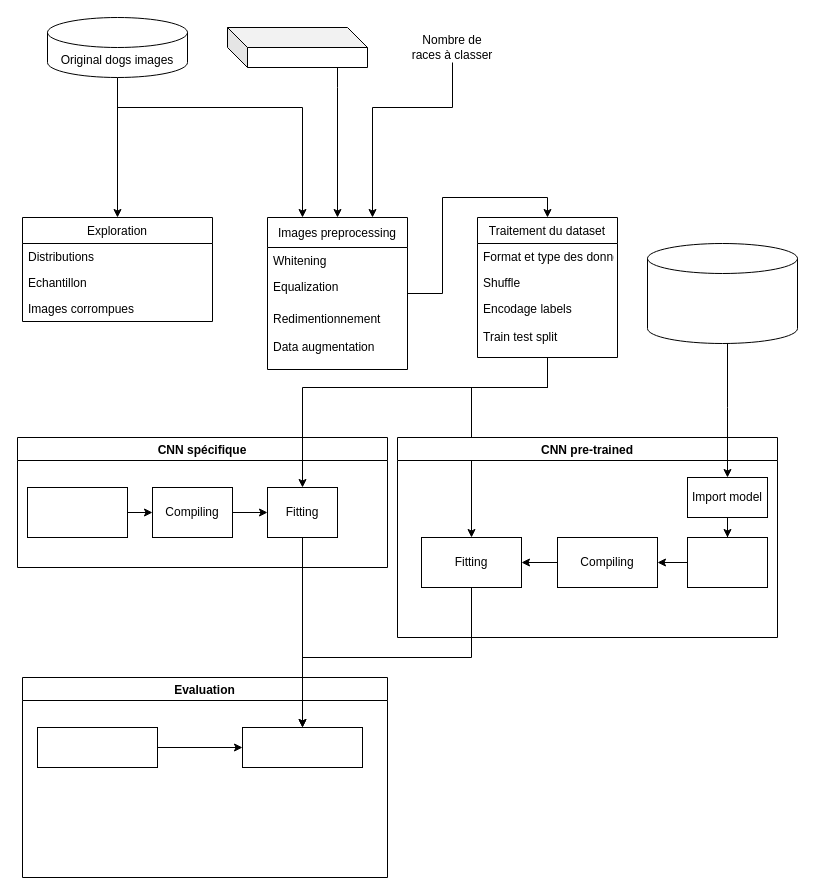
Image size: 815x895. Some labels were removed from this diagram. Here are the shapes that lost their labels. From the top down, the centre of each, then its label:
At pixel 297 47: "Annotations".
At pixel 722 293: "Models database".
At pixel 77 512: "Sequential model creation".
At pixel 727 562: "Adding dense layers".
At pixel 97 747: "Definition".
At pixel 302 747: "Visualisation".
